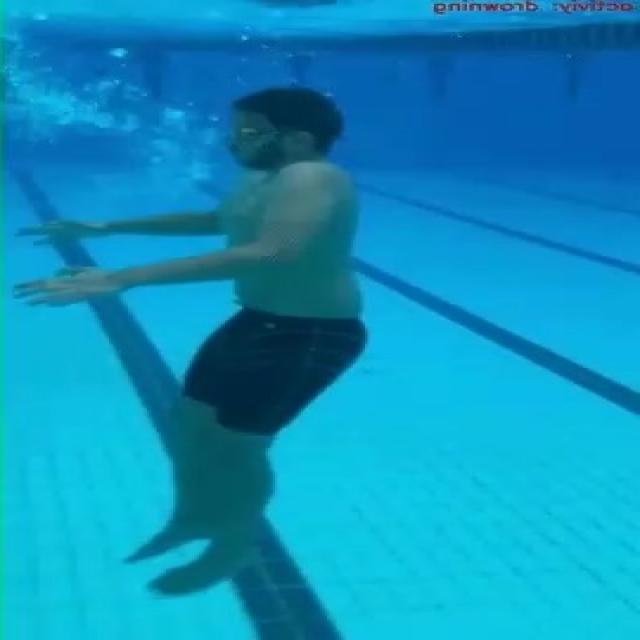drowning: (24, 66, 426, 606)
